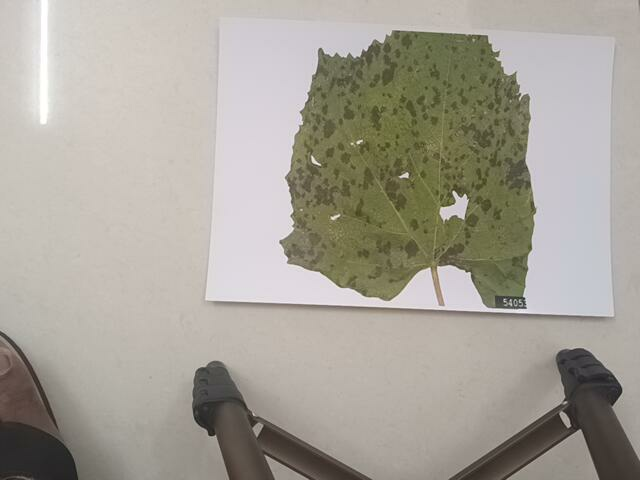Grape_Blight_Leaf: (278, 27, 554, 318)
